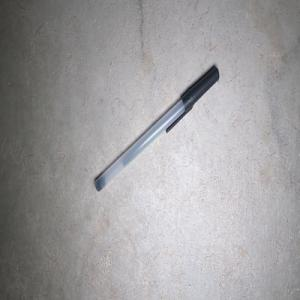Pen: (95, 66, 219, 191)
